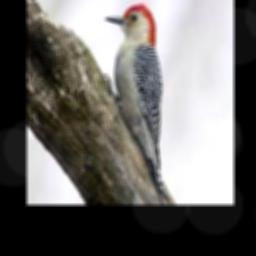Woodpecker: (105, 4, 173, 204)
